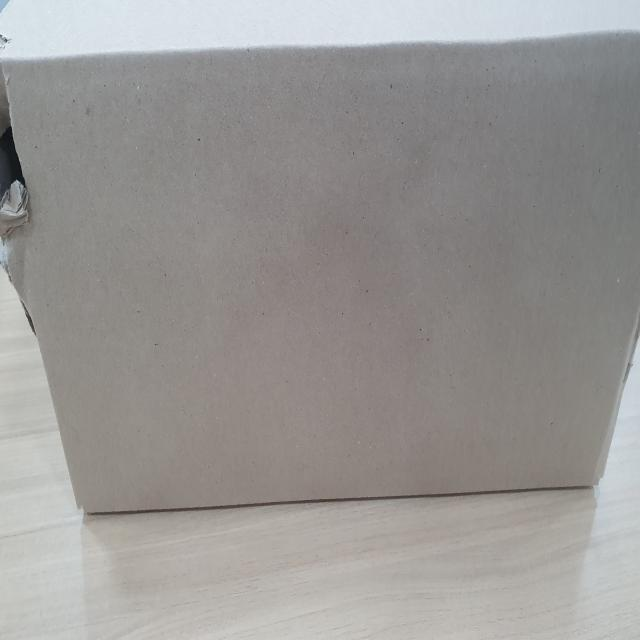hole: (0, 71, 48, 245)
